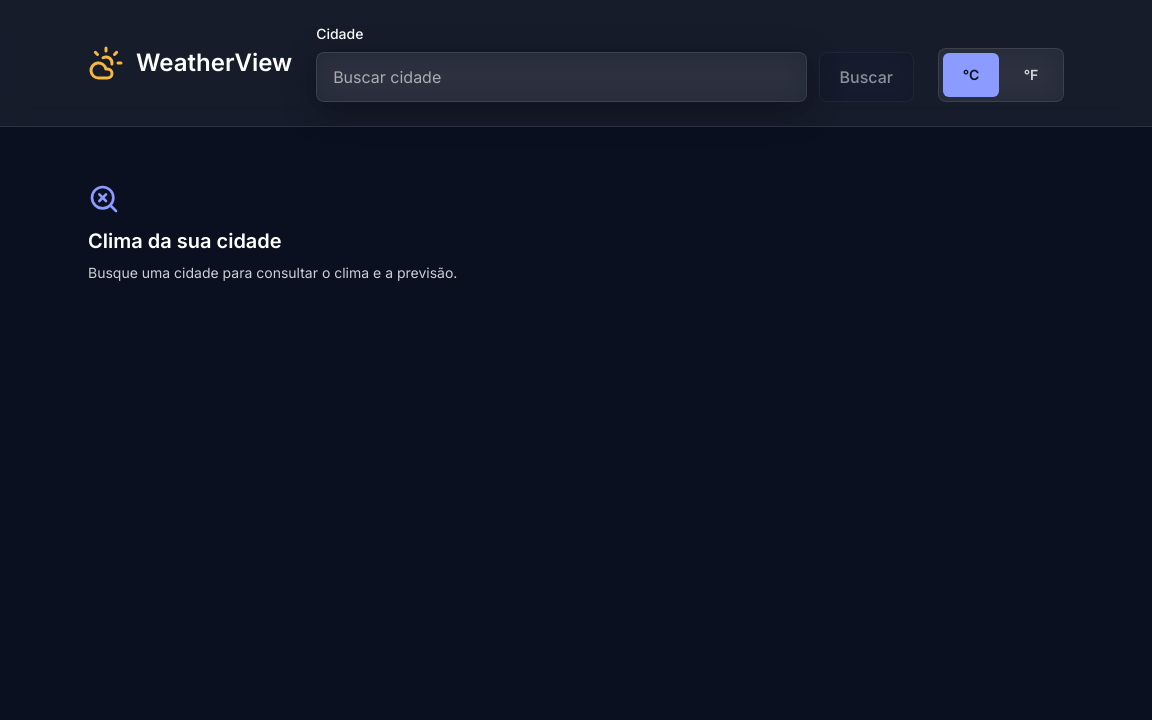
Test: fluxo de busca (App + useWeather real) › 1 resultado: carrega o clima direto, sem exibir a lista
Type "Recife" into the search field at (561, 77), box [316,52,806,102]
Then press Enter
(page scrolled)
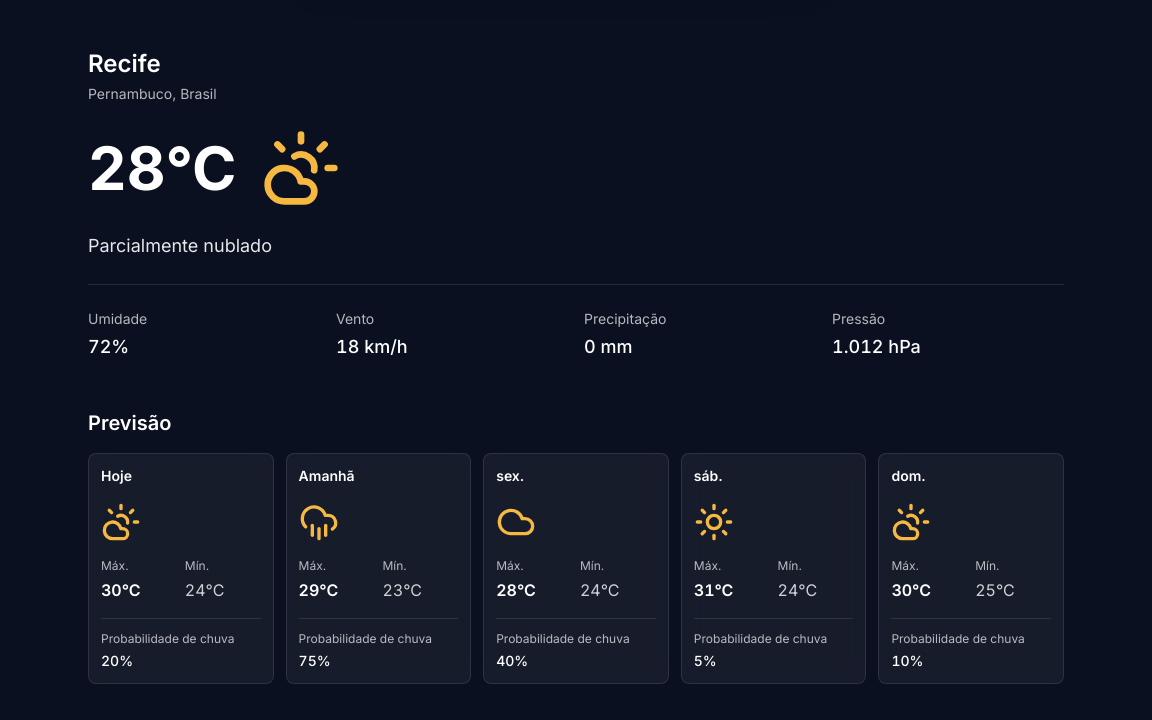
Expected: the element "Recife" is shown, [88,24,1064,385]
